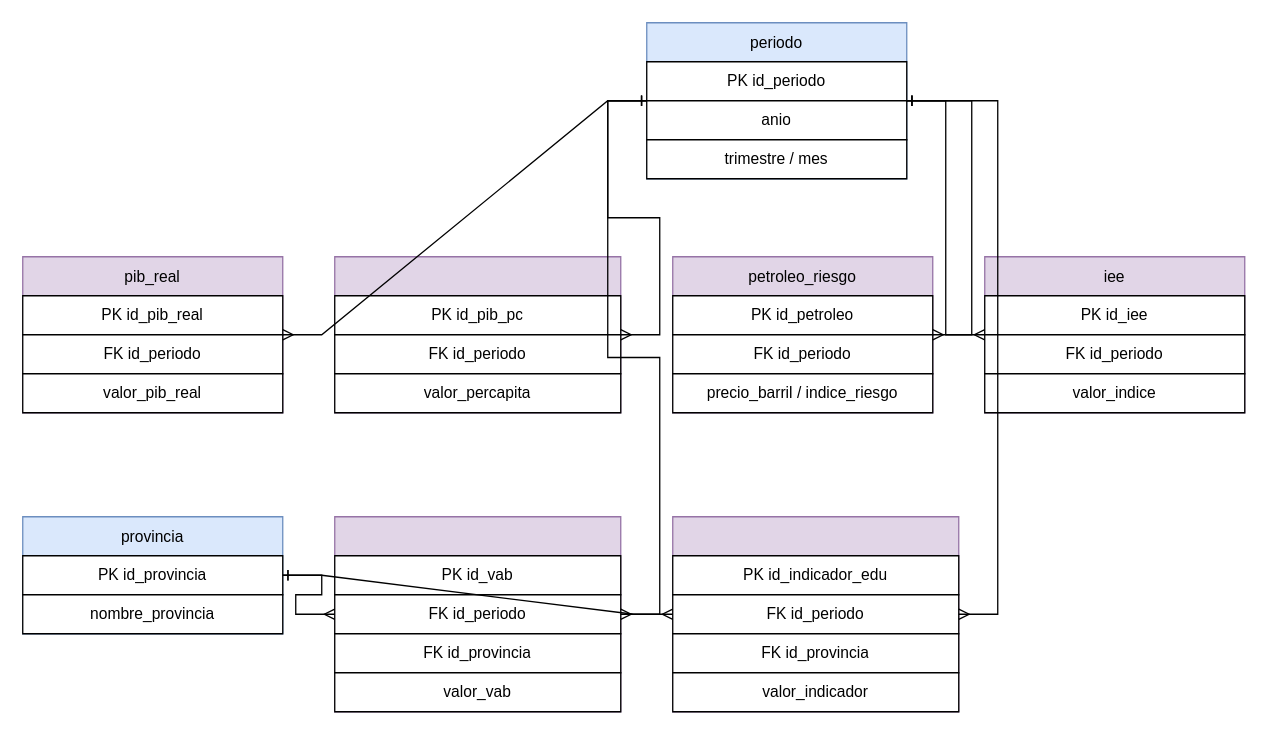
Image size: 1268x735. Some labels were removed from this diagram. The shapes that lost their labels are listed below. From the top down, each one's box as (x1, y1, x2, y2) in pixels, then its label:
(333, 255, 621, 413): pib_percapita_nominal
(333, 515, 621, 712): vab_provincial
(671, 515, 959, 712): mineduc_indicadores
